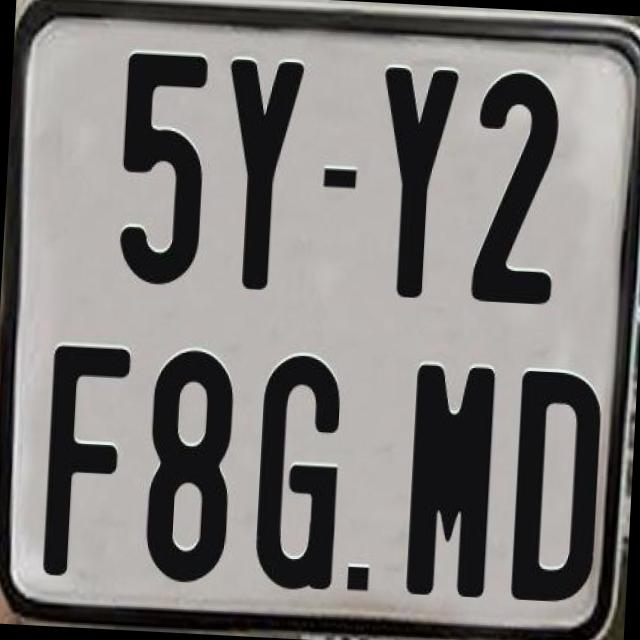2: (468, 66, 560, 304)
5: (116, 47, 212, 286)
8: (142, 348, 237, 592)
D: (507, 366, 602, 598)
F: (42, 341, 132, 585)
G: (252, 353, 348, 594)
M: (402, 360, 494, 595)
Y: (216, 54, 308, 295), (372, 67, 462, 308)
